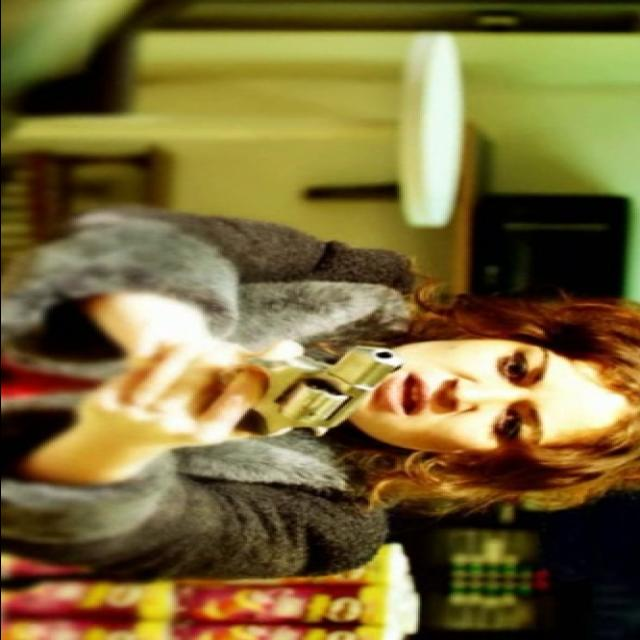weapons: (138, 334, 420, 444)
